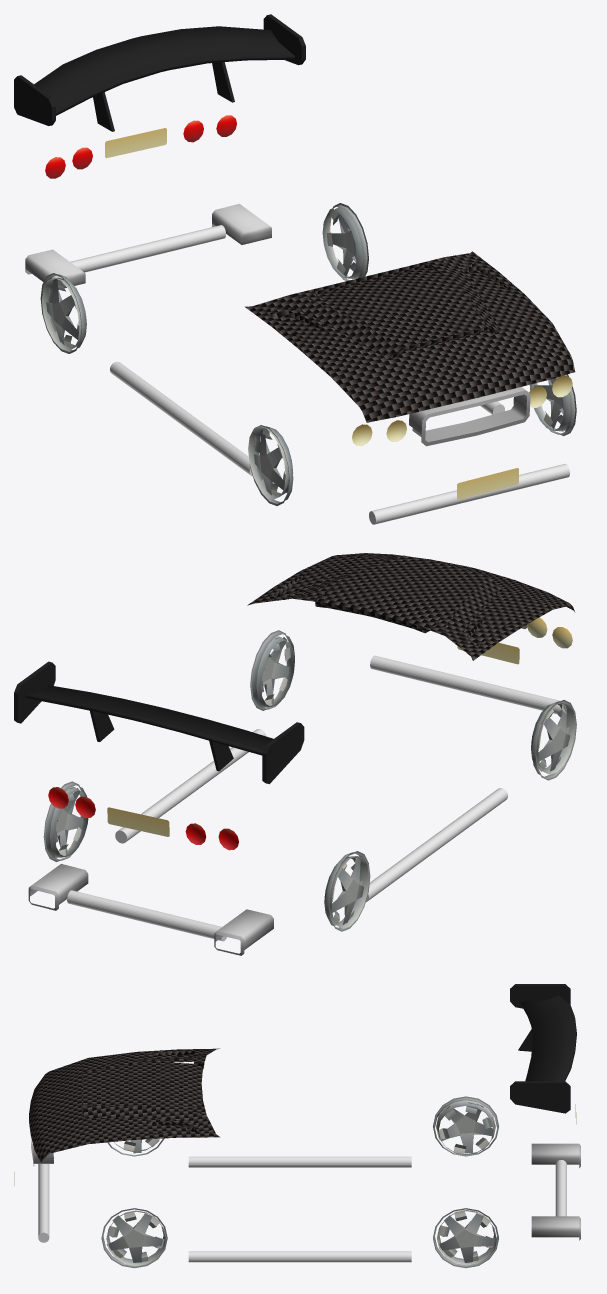
File: Car_2.fbx
The picture shows the model from 3 angles, top to bottom: view 1: azimuth 30°, elevation 25°; view 2: azimuth 150°, elevation 25°; view 3: azimuth 270°, elevation 25°; orthographic projection. The views are drawn at different scales.
Parts seen in each view (by area): view 1: CarbonPart.002, Spoiler.001, Car_6A, Neon.001, Wheel_6A_R.R, Wheel_6A_F.R, Wheel_6A_R.L, Wheel_6A_R.L.001, Wheel_6A_F.R.001, Wheel_6A_R.R.001, Wheel_6A_F.L; view 2: CarbonPart.002, Neon.001, Spoiler.001, Car_6A, Wheel_6A_F.R, Wheel_6A_R.R, Wheel_6A_F.L, Wheel_6A_R.L, Wheel_6A_F.R.001, Wheel_6A_F.L.001, Wheel_6A_R.R.001, Wheel_6A_R.L.001; view 3: CarbonPart.002, Neon.001, Spoiler.001, Car_6A, Wheel_6A_R.L, Wheel_6A_F.L, Wheel_6A_R.R, Wheel_6A_R.R.001, Wheel_6A_F.L.001, Wheel_6A_R.L.001.
Boxes of the visible parts, box(x1,y1,x2,y2) form: CarbonPart.002: box(245, 251, 575, 422); Spoiler.001: box(14, 14, 305, 131); Car_6A: box(25, 115, 572, 499); Neon.001: box(70, 225, 569, 524); Wheel_6A_R.R: box(40, 273, 85, 353); Wheel_6A_F.R: box(249, 425, 293, 505); Wheel_6A_R.L: box(326, 203, 368, 280); Wheel_6A_R.L.001: box(322, 207, 362, 278); Wheel_6A_F.R.001: box(248, 426, 293, 499); Wheel_6A_R.R.001: box(42, 277, 86, 350); Wheel_6A_F.L: box(538, 374, 576, 435); CarbonPart.002: box(247, 553, 575, 660); Neon.001: box(67, 655, 561, 941); Spoiler.001: box(14, 661, 304, 784); Car_6A: box(28, 617, 572, 955); Wheel_6A_F.R: box(532, 700, 576, 780); Wheel_6A_R.R: box(325, 851, 370, 931); Wheel_6A_F.L: box(250, 630, 294, 710); Wheel_6A_R.L: box(43, 781, 86, 861); Wheel_6A_F.R.001: box(531, 702, 575, 774); Wheel_6A_F.L.001: box(250, 636, 294, 707); Wheel_6A_R.R.001: box(324, 856, 368, 928); Wheel_6A_R.L.001: box(50, 786, 88, 857); CarbonPart.002: box(29, 1048, 220, 1162); Neon.001: box(38, 1156, 566, 1262); Spoiler.001: box(510, 984, 576, 1113); Car_6A: box(14, 1104, 580, 1240); Wheel_6A_R.L: box(433, 1208, 498, 1268); Wheel_6A_F.L: box(101, 1208, 167, 1268); Wheel_6A_R.R: box(433, 1096, 498, 1156); Wheel_6A_R.R.001: box(436, 1100, 495, 1154); Wheel_6A_F.L.001: box(106, 1210, 165, 1265); Wheel_6A_R.L.001: box(437, 1210, 496, 1265).
Bounding box in the file's own units: 2.46 × 1.94 × 5.19.
4 materials, 3 textured.
